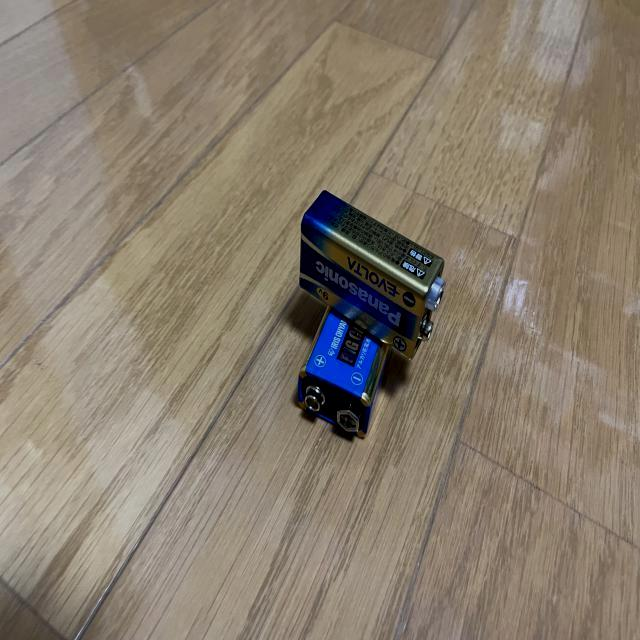9V: (300, 189, 445, 363), (297, 304, 398, 440)
